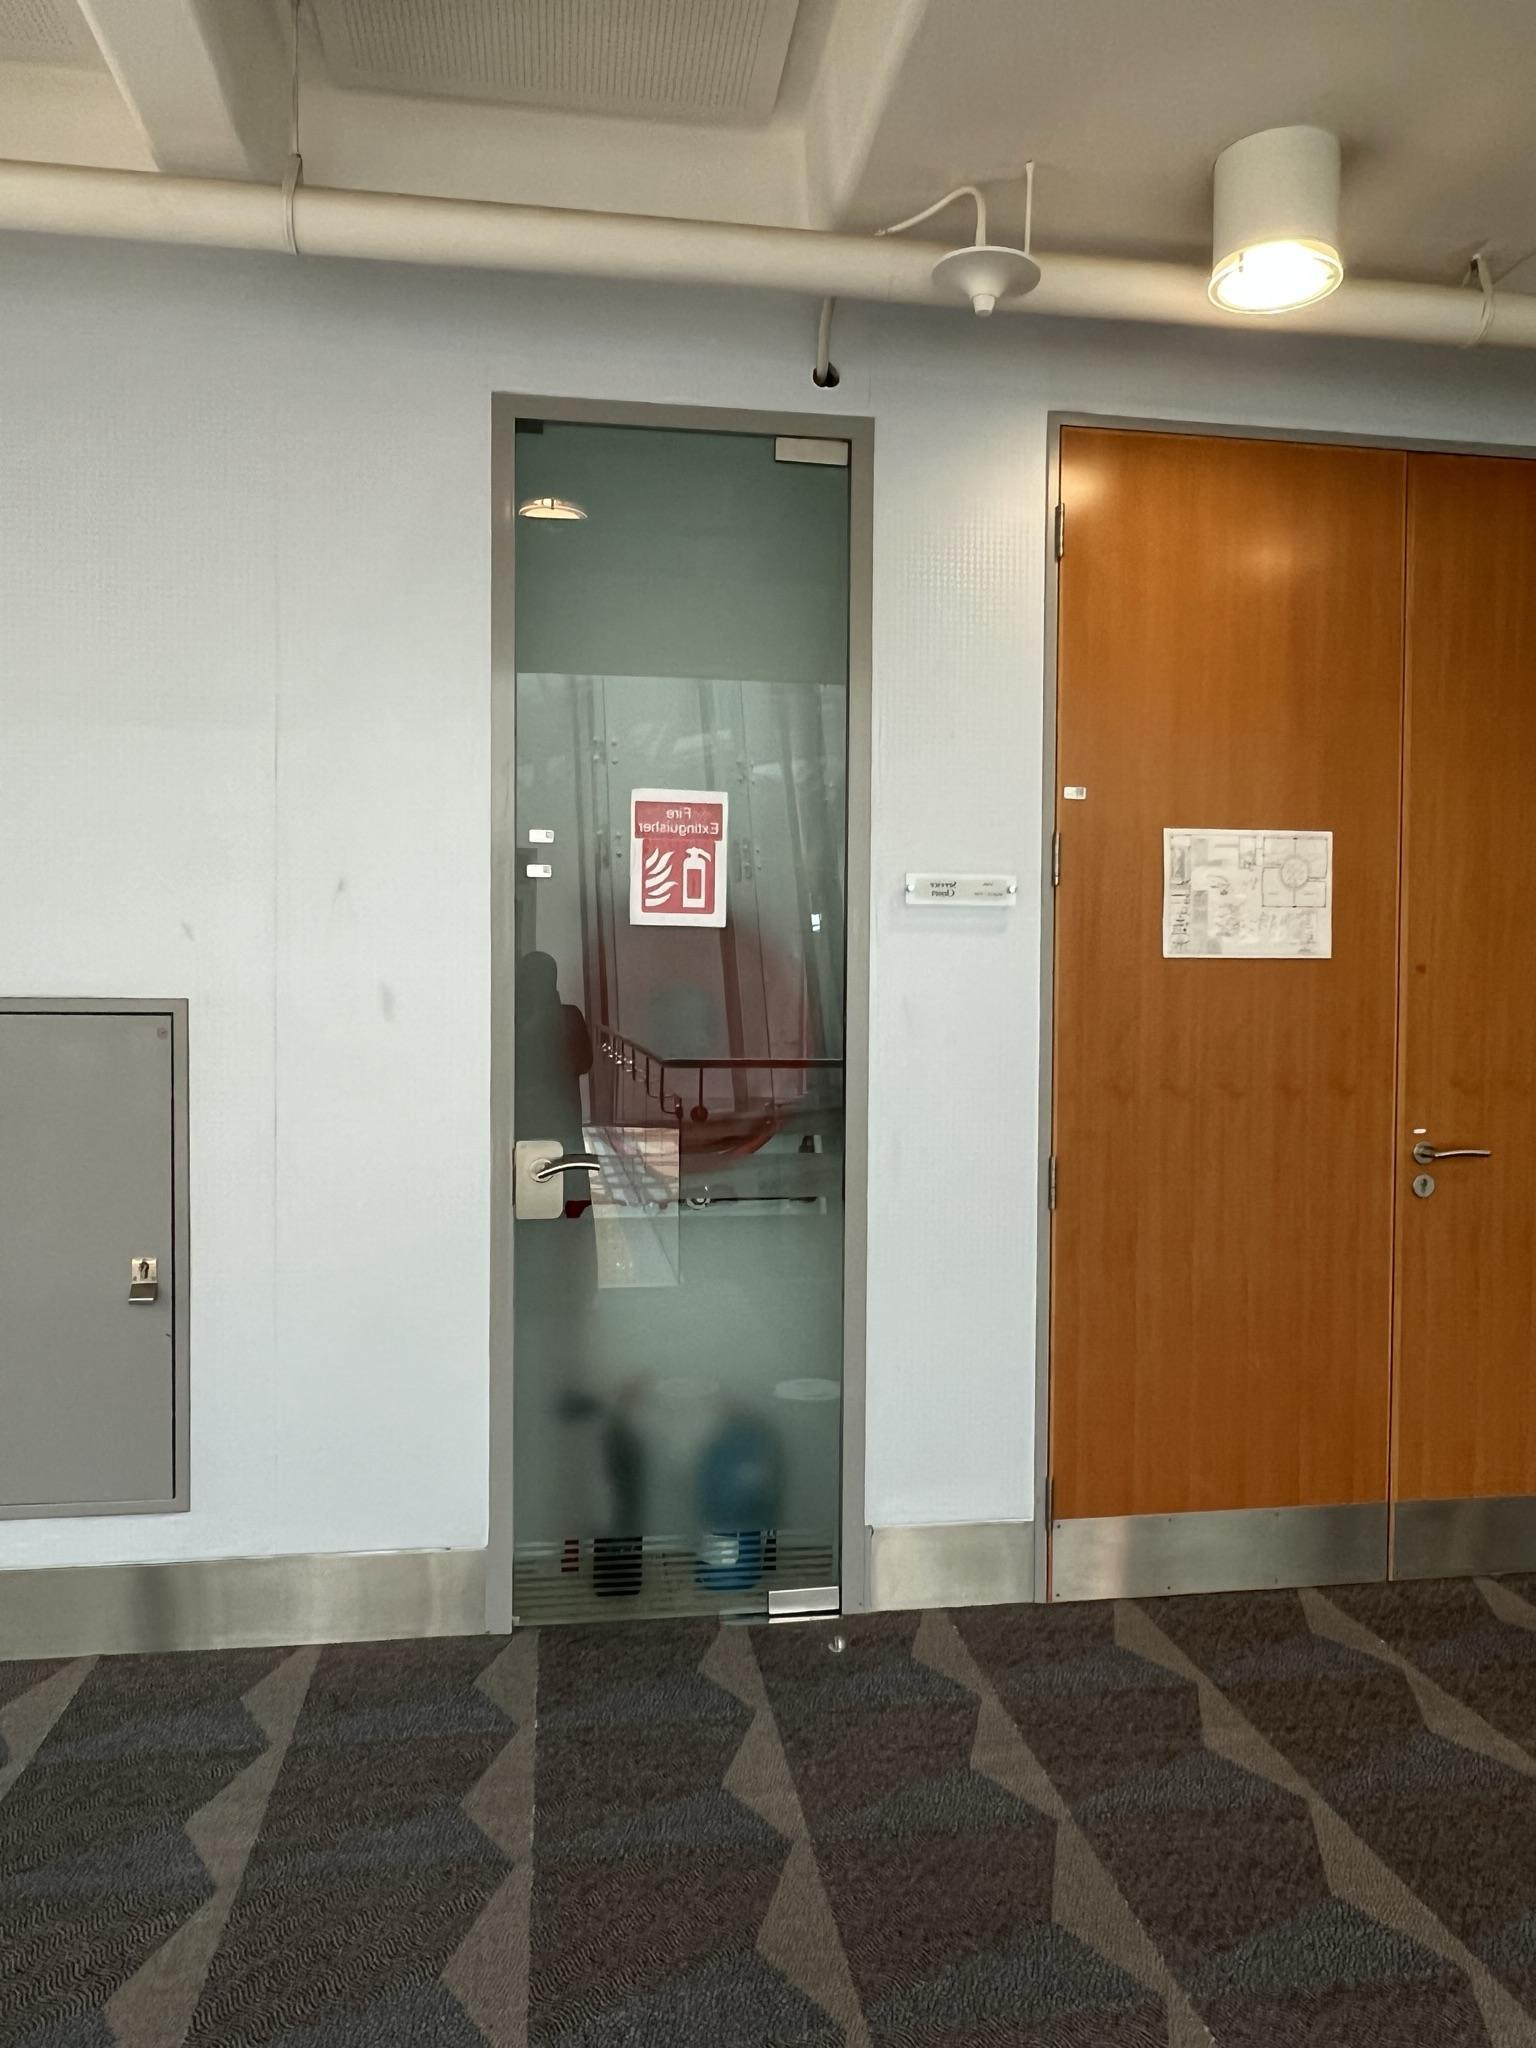door: (1029, 426, 1536, 1587), (495, 402, 874, 1609)
handle: (1399, 1106, 1504, 1206), (507, 1130, 599, 1230)
